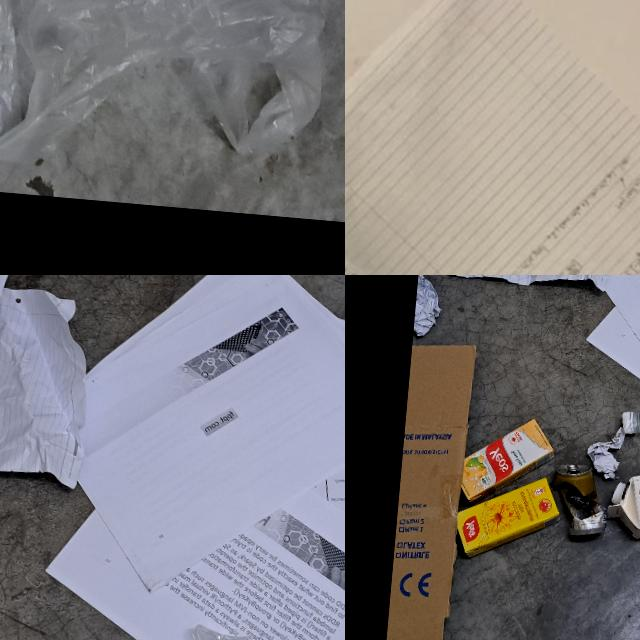aba de lata: (412, 275, 442, 340), (564, 464, 579, 472)
caixinha: (455, 470, 561, 562), (460, 414, 556, 506)
garrafa plástica: (619, 364, 640, 446)
lata: (550, 463, 608, 537)
papel: (32, 275, 345, 640), (345, 0, 640, 275), (0, 275, 97, 487), (585, 423, 623, 479)
papelão: (385, 335, 475, 640), (385, 339, 475, 640)
sacola plástica: (0, 0, 345, 190)
tampa plástica: (610, 480, 626, 504), (620, 410, 634, 434)
